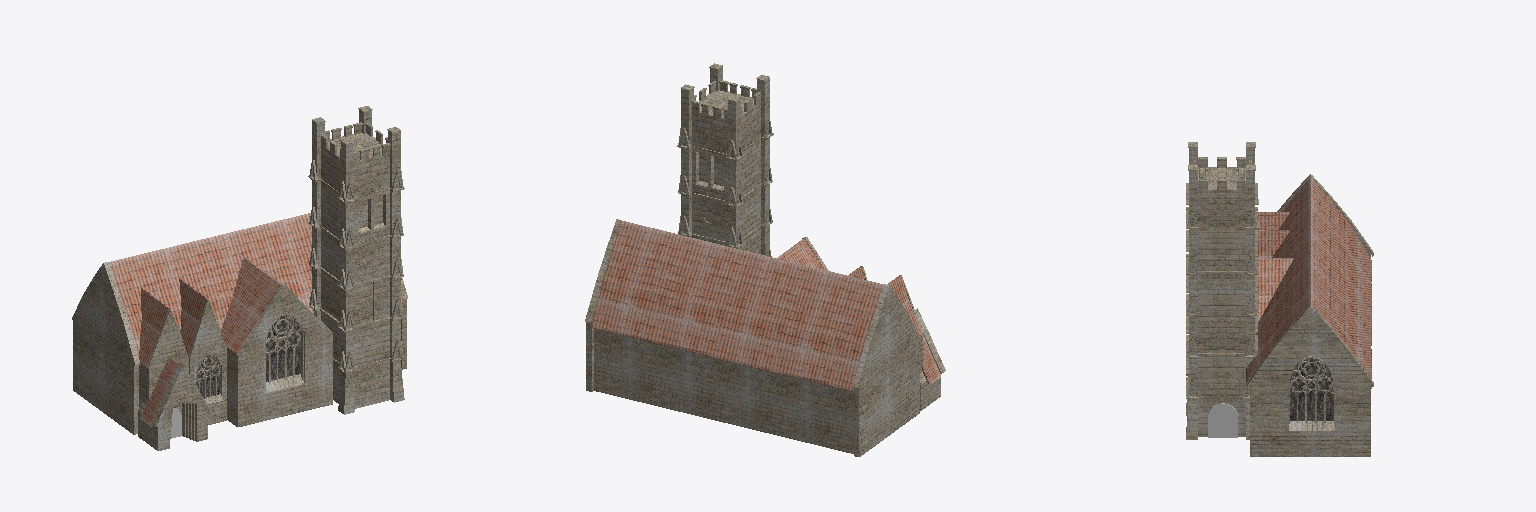
3 views of the same model, side by side, from view 1: azimuth 30°, elevation 25°; view 2: azimuth 150°, elevation 25°; view 3: azimuth 270°, elevation 25° (orthographic).
Parts seen in each view (by area): view 1: Cube_Cube.001, Cube.002, Cube.008_Cube.009, Cube.006, Cube.001_Mesh, Cube.003_Cube.004, Plane, Cube.007_Cube.008, Cube.005_Cube.003; view 2: Cube.008_Cube.009, Cube.002, Cube_Cube.001, Cube.001_Mesh, Cube.006; view 3: Cube_Cube.001, Cube.008_Cube.009, Cube.002, Cube.001_Mesh, Cube.004_Cube.005, Plane.001_Plane.002, Cube.009_Cube.010.
Boxes of the visible parts, box(x1,y1,x2,y2) form: Cube_Cube.001: box(308, 106, 404, 414); Cube.002: box(72, 262, 407, 434); Cube.008_Cube.009: box(109, 213, 403, 369); Cube.006: box(138, 362, 212, 450); Cube.001_Mesh: box(309, 160, 403, 371); Cube.003_Cube.004: box(266, 316, 300, 381); Plane: box(266, 315, 304, 392); Cube.007_Cube.008: box(140, 357, 177, 426); Cube.005_Cube.003: box(196, 355, 220, 397); Cube.008_Cube.009: box(591, 221, 922, 391); Cube.002: box(585, 219, 922, 456); Cube_Cube.001: box(677, 63, 773, 255); Cube.001_Mesh: box(678, 117, 772, 256); Cube.006: box(915, 308, 945, 410); Cube_Cube.001: box(1186, 142, 1258, 439); Cube.008_Cube.009: box(1246, 177, 1371, 388); Cube.002: box(1247, 174, 1373, 456); Cube.001_Mesh: box(1186, 183, 1257, 396); Cube.004_Cube.005: box(1290, 358, 1333, 420); Plane.001_Plane.002: box(1289, 356, 1334, 430); Cube.009_Cube.010: box(1208, 403, 1237, 437).
Size of the model in its own units: 9.45 by 8.74 by 5.55.
14 materials, 3 textured.